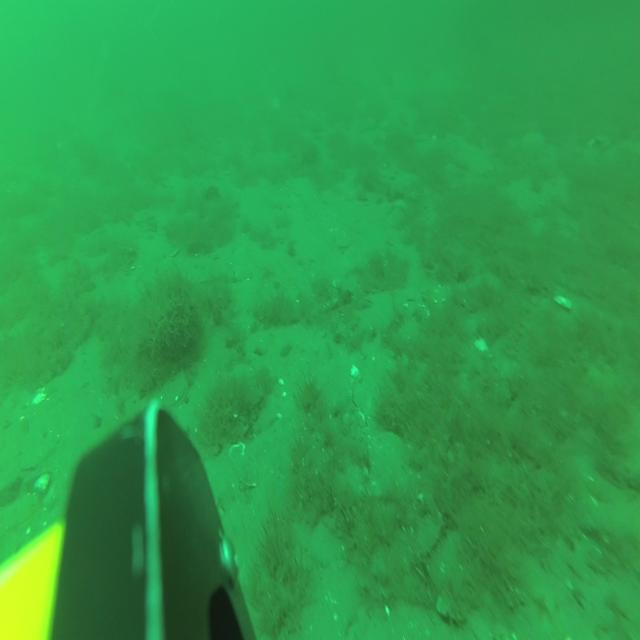scallop: (7, 496, 39, 534), (162, 374, 188, 408), (230, 440, 244, 467)
